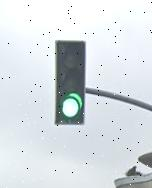greenlight: (55, 39, 84, 125)
